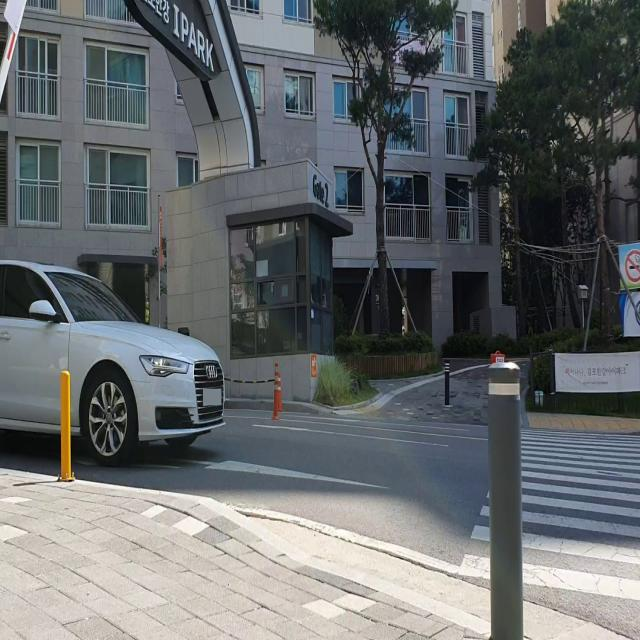횡단보도: (456, 424, 640, 603)
